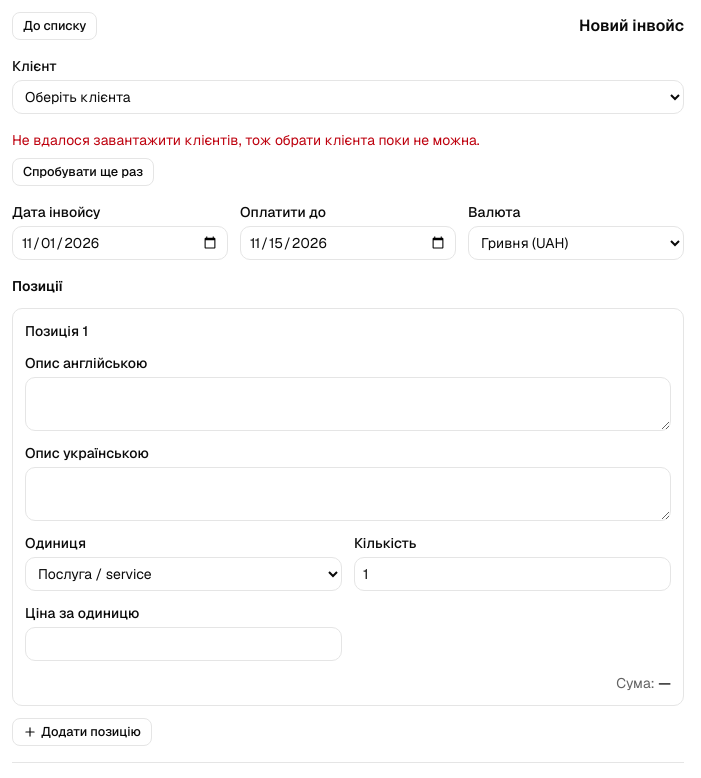
Test: DraftEditor client list in uk › says the clients could not load, instead of staying silent, and loads them again on retry
Expected: the message shows "Не вдалося завантажити клієнтів", [12,131,480,149]
Click the button "Спробувати ще раз". click: coordinates (83, 172)
box: [12,158,154,186]
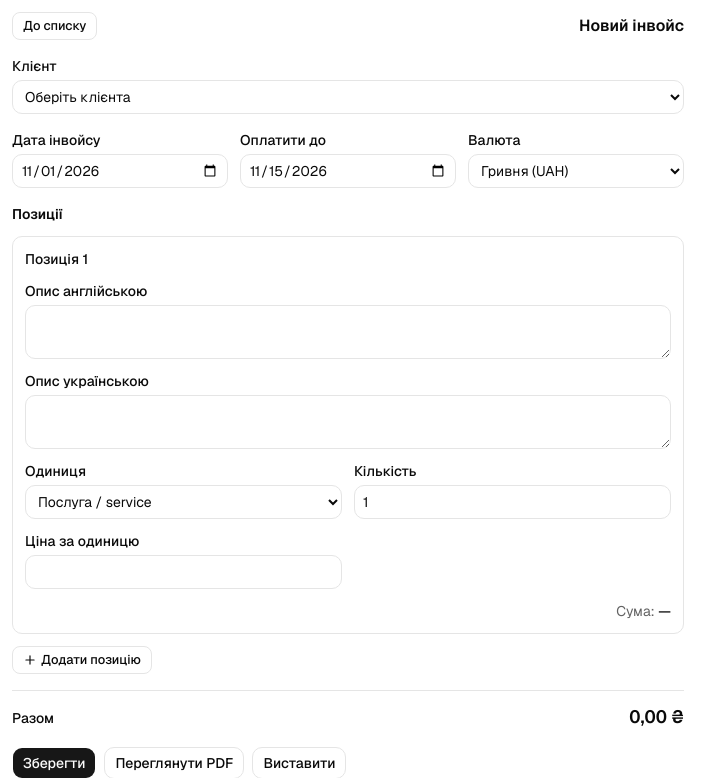
Expected: the message is gone
